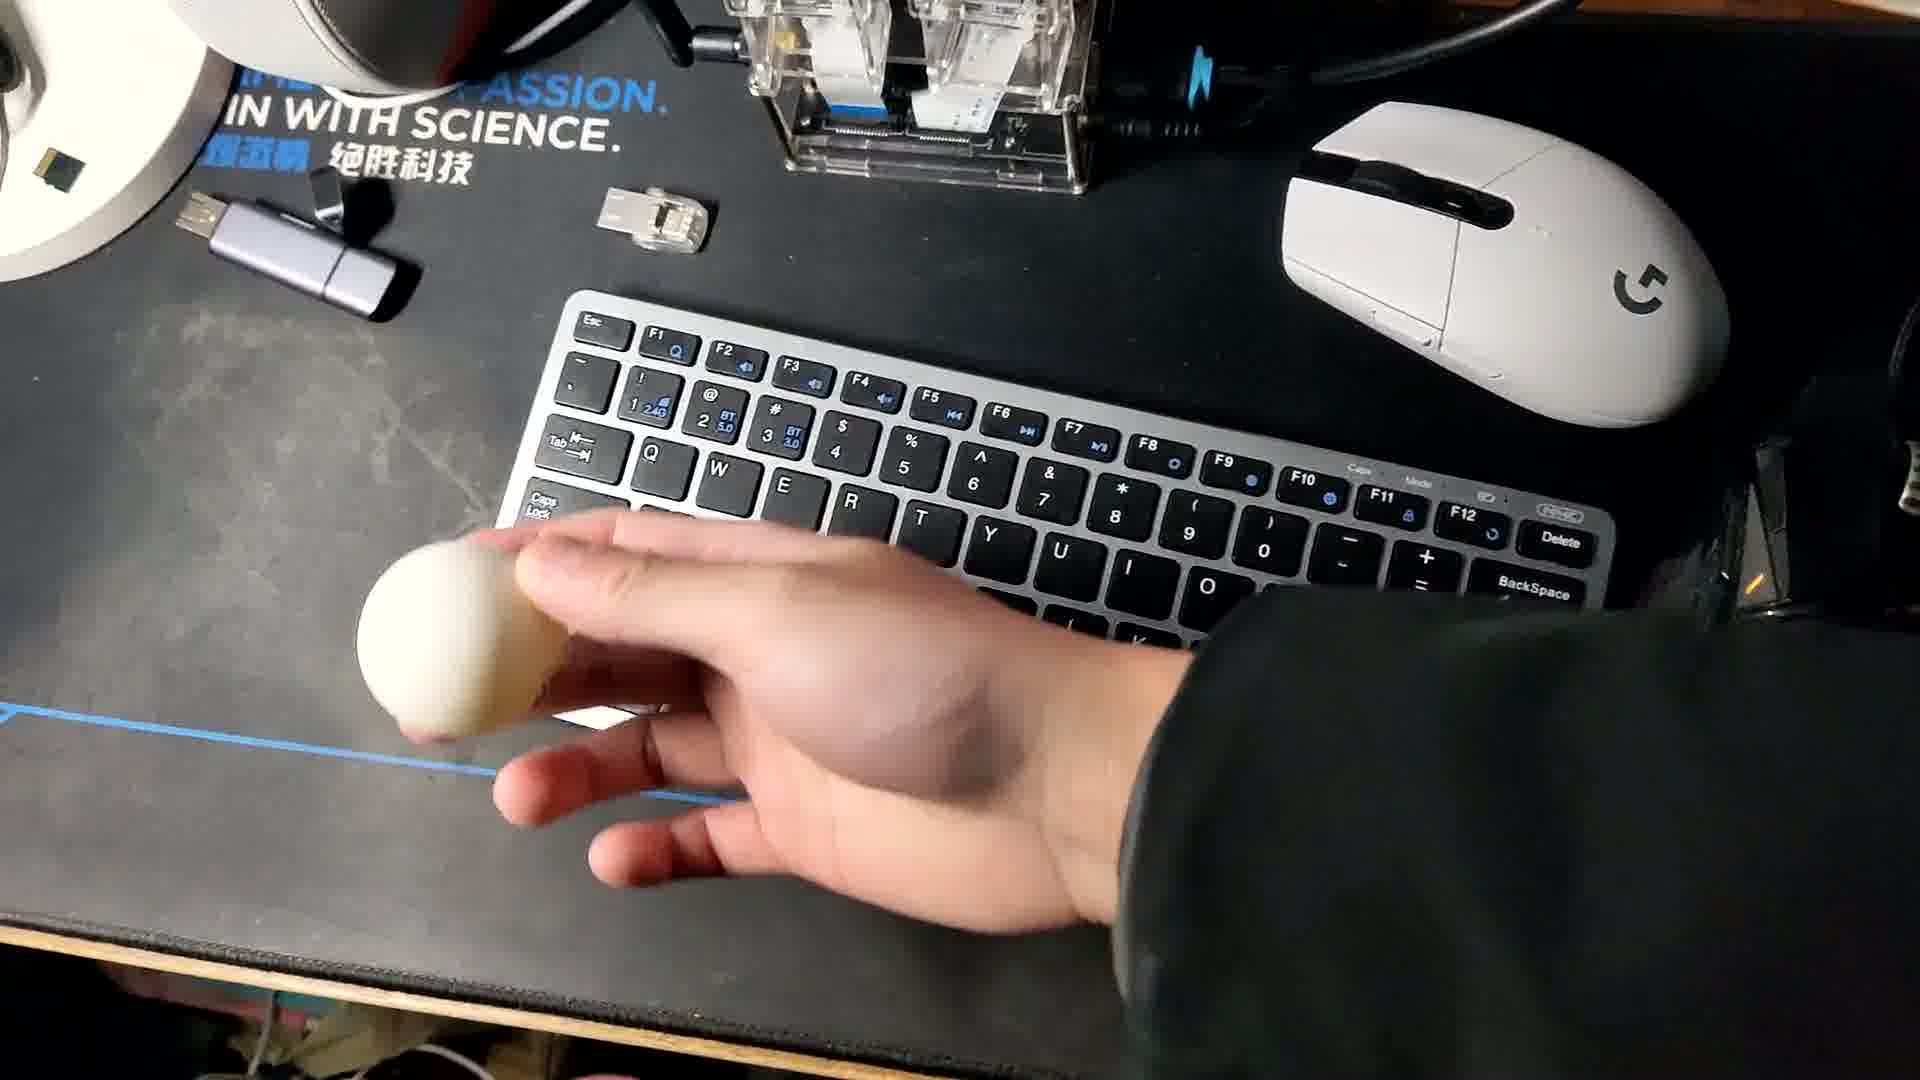Ball: (357, 541, 564, 750)
